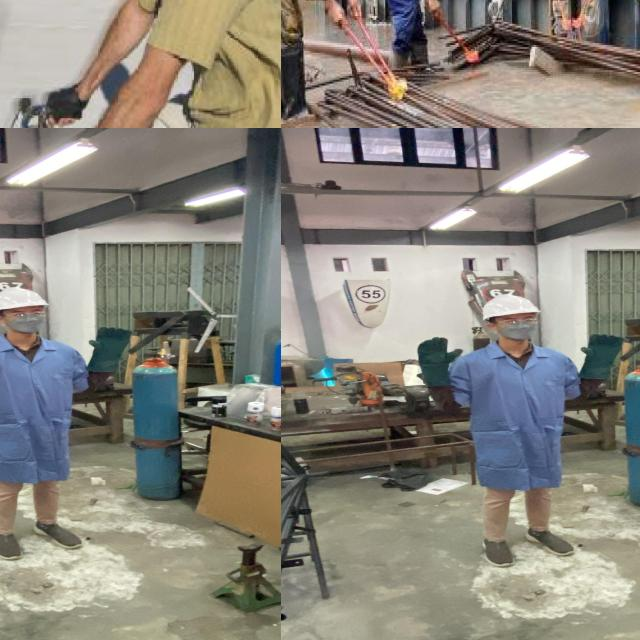face_mask: (4, 308, 52, 336), (496, 314, 544, 342)
glasses: (489, 316, 541, 328), (0, 309, 49, 320)
hand_glove: (34, 78, 92, 128), (412, 335, 466, 372), (86, 325, 140, 360), (578, 332, 632, 367)
hand_noglove: (324, 0, 348, 30), (343, 0, 365, 21), (424, 0, 445, 19)
head_helmet: (476, 292, 546, 320), (0, 285, 53, 313)
person: (410, 292, 638, 582), (0, 285, 146, 575), (47, 0, 281, 128), (281, 0, 377, 126), (363, 0, 470, 84), (524, 0, 621, 57)
shoes: (281, 42, 321, 126), (28, 517, 88, 555), (520, 524, 580, 562), (475, 526, 520, 571), (404, 31, 433, 78), (0, 519, 28, 563)
